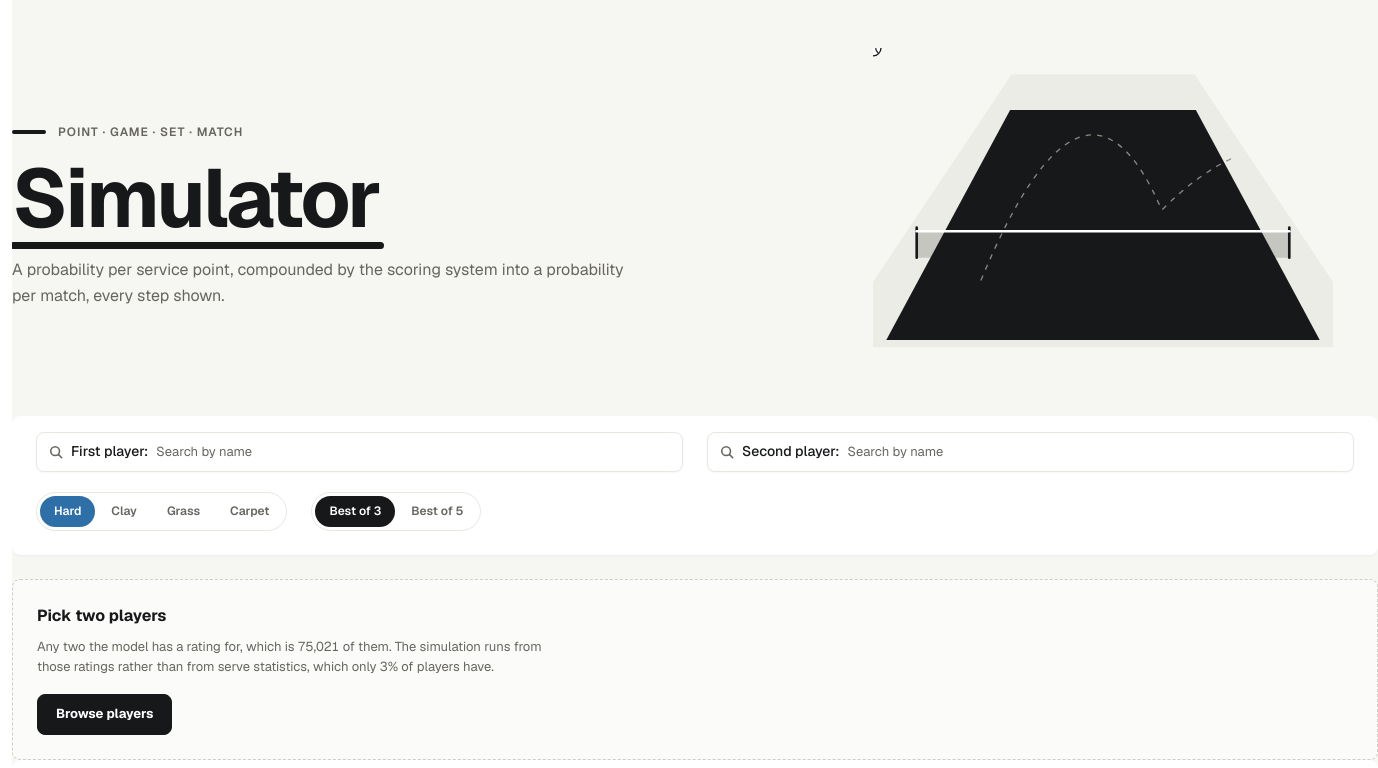
Test: Simulator › keeps showing a player picked before the other one is
The width and height of the screenshot is (1378, 768).
Type "alcaraz" into the dropdown labelled "First player" at [413, 452], box [156,433,670,471]
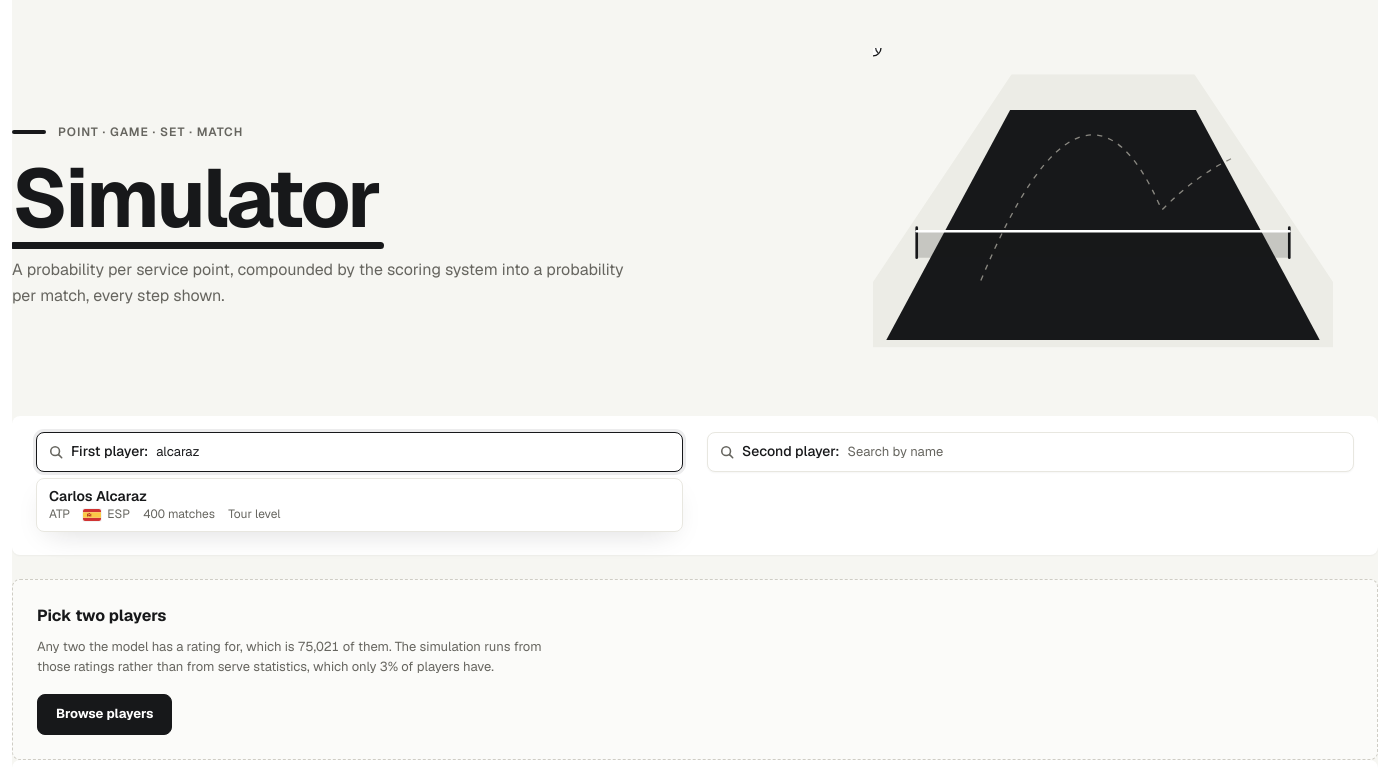
Click the text "Carlos Alcaraz" at [98, 496], box [49,487,147,505]
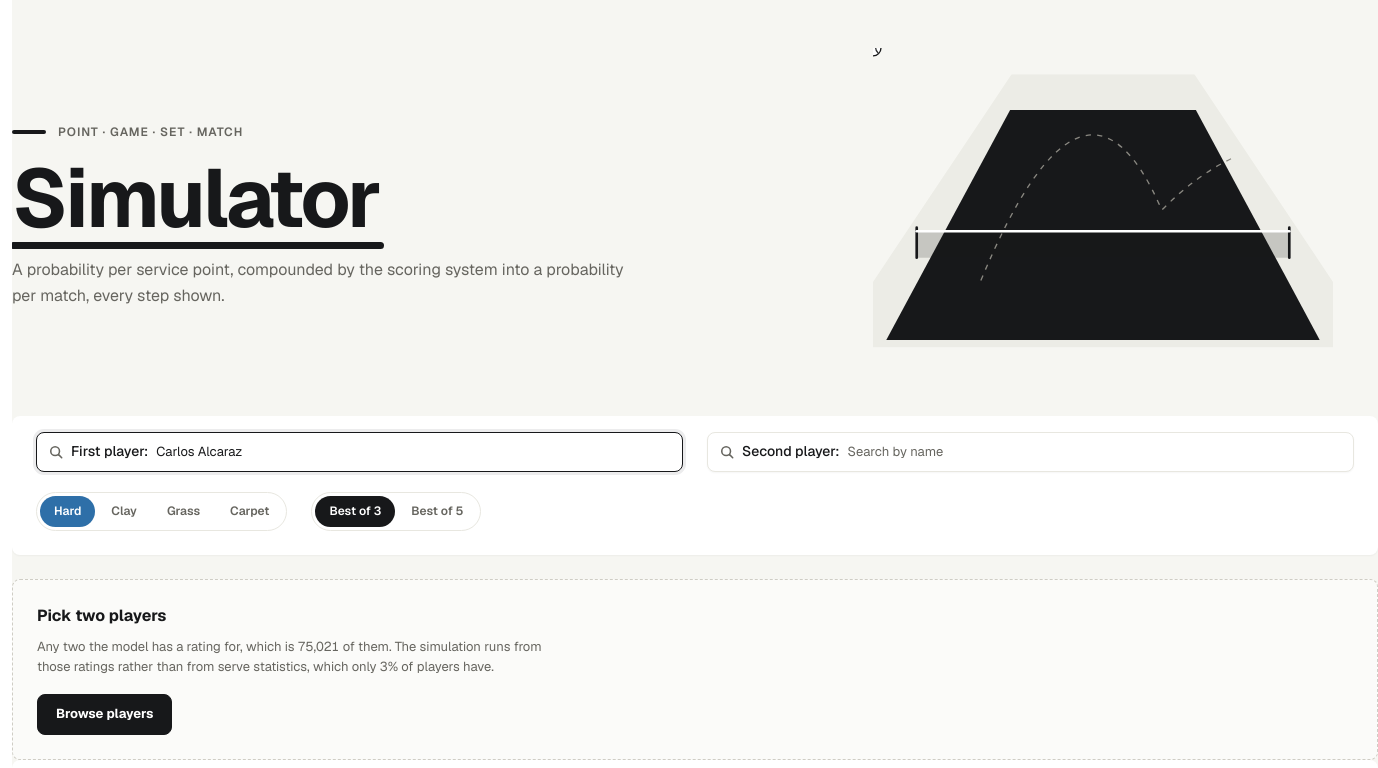
Result: the dropdown labelled "First player" holds "Carlos Alcaraz" at [156,433,670,471]
